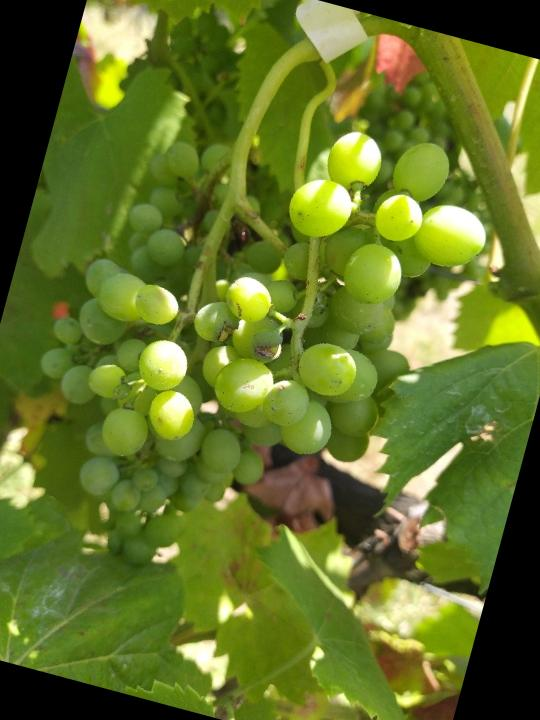grape: (0, 59, 510, 633)
